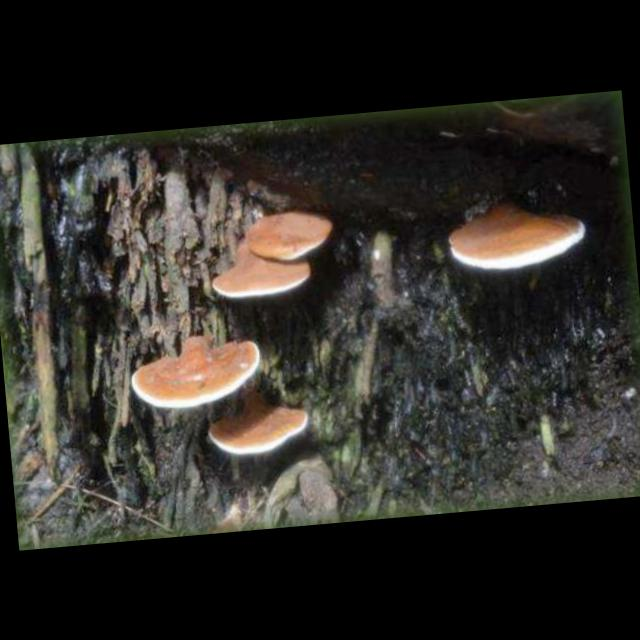ganoderma: (130, 329, 269, 418), (446, 198, 591, 277), (204, 400, 314, 462), (242, 209, 337, 269), (207, 255, 315, 304)
